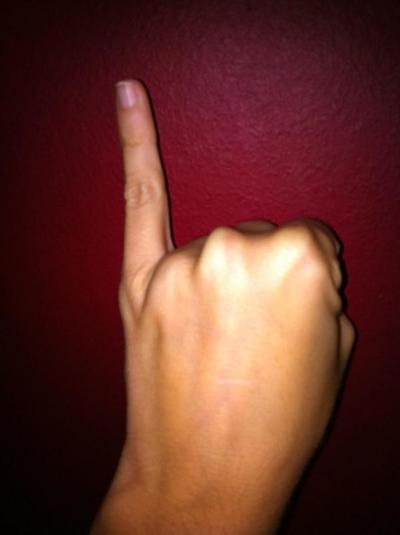mindinho: (113, 66, 178, 273)
